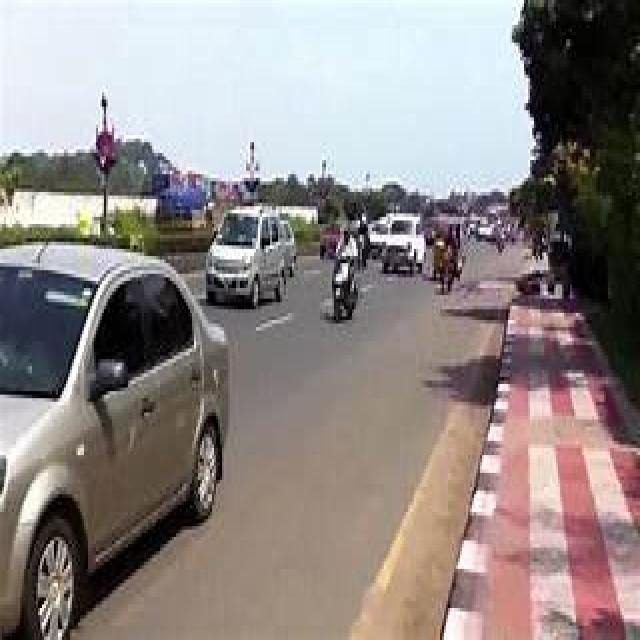Car: (0, 247, 229, 637), (206, 209, 296, 306), (382, 216, 424, 269)
Two Wheeler: (332, 251, 358, 319)
